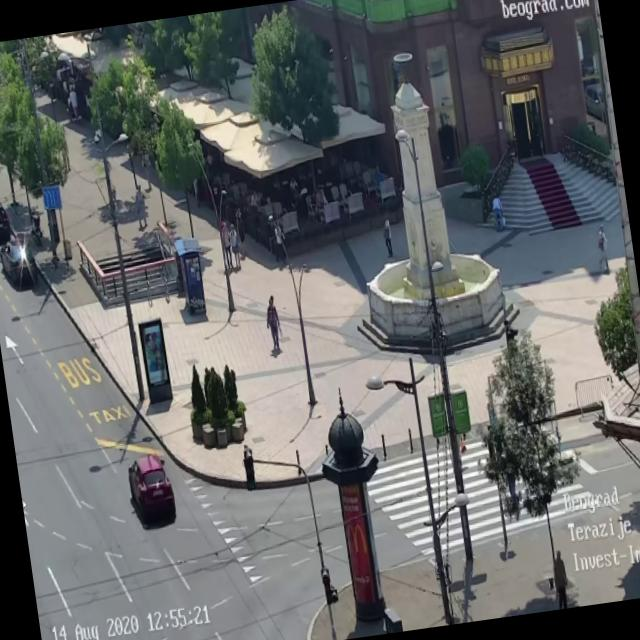car: (126, 452, 178, 524), (0, 237, 38, 284), (582, 82, 608, 125), (0, 193, 10, 241)
